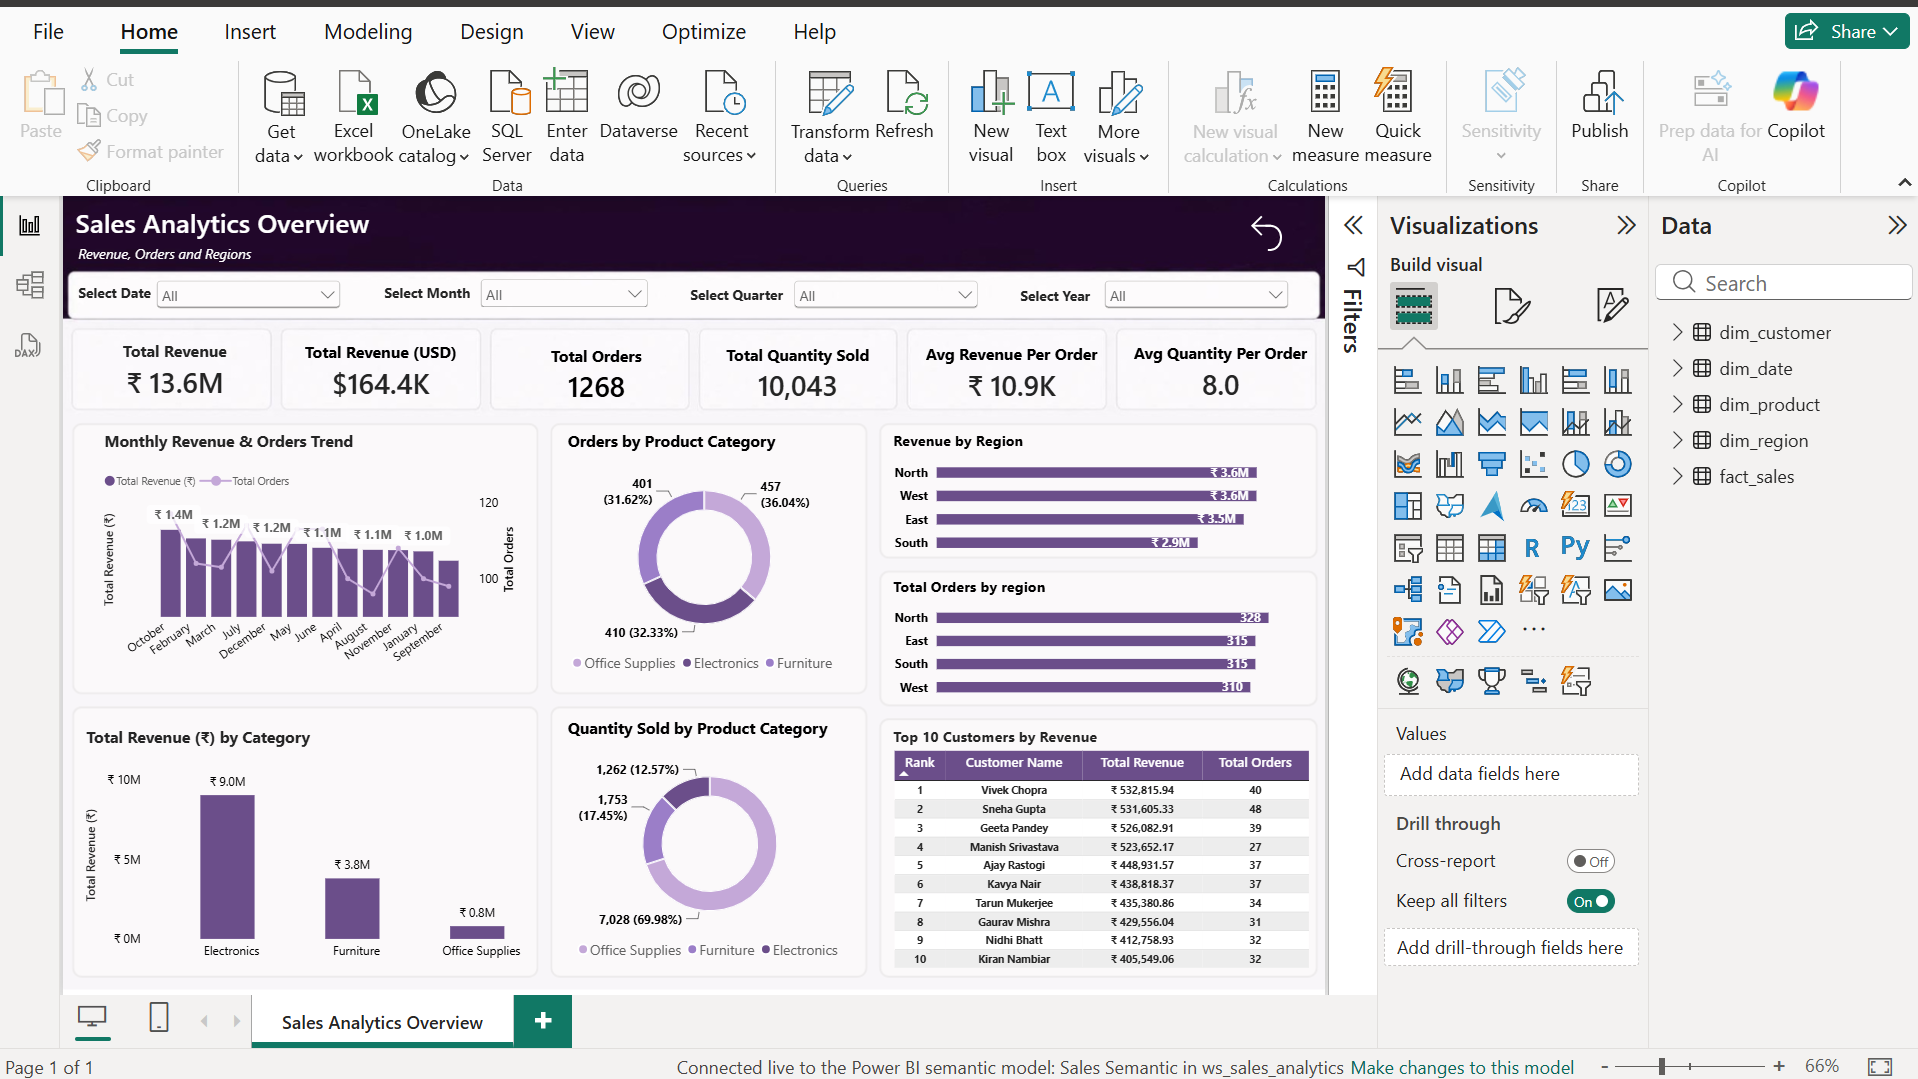

The dashboard page shown, as its layout file describes it:
{"tool":"powerbi","page":{"name":"Sales Analytics Overview","canvas":[1280,810],"ordinal":0},"visuals":[{"type":"textbox","box":[0,9.1,323.3,40],"z":0},{"type":"textbox","box":[309.7,88.5,126.6,48.2],"z":0,"group":"g3"},{"type":"textbox","box":[955,90,126.7,46.7],"z":0,"group":"g1"},{"type":"textbox","box":[0,88.3,126.7,46.7],"z":2,"group":"g4"},{"type":"textbox","box":[620.4,88.8,126.7,46.7],"z":3,"group":"g2"},{"type":"slicer","fields":{"Values":["dim_date.full_date"]},"box":[90,80,196.2,37.5],"z":7,"group":"g4"},{"type":"slicer","fields":{"Values":["dim_date.quater"]},"box":[735.4,80,196.2,37.5],"z":8,"group":"g2"},{"type":"textbox","box":[0,48.5,323.3,18.3],"z":1000},{"type":"slicer","fields":{"Values":["dim_date.month_name"]},"box":[417.1,79.5,179.9,33.5],"z":1000,"group":"g3"},{"type":"slicer","fields":{"Values":["dim_date.year"]},"box":[1051.2,80,196.2,38.8],"z":1000,"group":"g1"},{"type":"group","id":"g1","title":"Group 1","box":[955,80,292.5,56.2],"z":2000},{"type":"group","id":"g2","title":"Group 2","box":[620.4,80,311.2,55.4],"z":3000},{"type":"group","id":"g3","title":"Group 3","box":[309.7,79.5,287.4,58.6],"z":4000},{"type":"group","id":"g4","title":"Group 4","box":[0,80,286.2,55],"z":5000},{"type":"cardVisual","fields":{"Data":["fact_sales.Total Revenue"]},"box":[26.2,135,175,82.5],"z":6000},{"type":"cardVisual","fields":{"Data":["fact_sales.Total Revenue usd"]},"box":[228.8,145,188.8,68.8],"z":7000},{"type":"cardVisual","fields":{"Data":["fact_sales.Total Orders"]},"box":[453.8,135,175,93.8],"z":8000},{"type":"cardVisual","fields":{"Data":["fact_sales.Avg Revenue Per Order"]},"box":[856.2,145,211.2,72.5],"z":9000},{"type":"cardVisual","fields":{"Data":["fact_sales.Avg Quantity Per Order"]},"box":[1067.5,135,212.5,88.8],"z":10000},{"type":"cardVisual","fields":{"Data":["fact_sales.Total Quantity Sold"]},"box":[651.2,140,188.8,83.8],"z":11000},{"type":"clusteredBarChart","title":"Revenue by Region","fields":{"Category":["dim_region.region"],"Y":["fact_sales.Total Revenue"]},"box":[825,223.8,435,160],"z":12000},{"type":"clusteredBarChart","fields":{"Category":["dim_region.region"],"Y":["fact_sales.Total Orders"]},"box":[825,371.2,435,158.8],"z":13000},{"type":"donutChart","title":"Orders by Product Category","fields":{"Category":["dim_product.product_category"],"Y":["fact_sales.Total Orders"]},"box":[496.2,223.8,308.8,280],"z":14000},{"type":"donutChart","title":"Quantity Sold by Product Category","fields":{"Category":["dim_product.product_category"],"Y":["fact_sales.Total Quantity Sold"]},"box":[496.2,513.8,320,280],"z":15000},{"type":"tableEx","title":"Top 10 Customers by Revenue","fields":{"Values":["fact_sales.Customer Rank","dim_customer.customer_name","fact_sales.Total Revenue","fact_sales.Total Orders"]},"box":[825.2,522.4,454.3,278.6],"z":16000},{"type":"columnChart","fields":{"Category":["dim_product.product_category"],"Y":["fact_sales.Total Revenue"]},"box":[7.6,522.4,514.8,271],"z":17000},{"type":"lineStackedColumnComboChart","title":"Monthly Revenue & Orders Trend","fields":{"Category":["dim_date.month_name"],"Y":["fact_sales.Total Revenue"],"Y2":["fact_sales.Total Orders"]},"box":[25.7,224.1,452.7,280.1],"z":18000},{"type":"actionButton","box":[1159.9,9.1,119.6,57.5],"z":19000}]}

Visuals, with their boxes on the page's 1280x810 design canvas (x1, y1, x2, y2). These are canvas units, not pixel positions in the 1918x1079 screenshot, which may show the page scaled, cropped or inside an application window:
textbox: {"left": 0, "top": 9, "right": 323, "bottom": 49}
textbox: {"left": 310, "top": 88, "right": 436, "bottom": 137}
textbox: {"left": 955, "top": 90, "right": 1082, "bottom": 137}
textbox: {"left": 0, "top": 88, "right": 127, "bottom": 135}
textbox: {"left": 620, "top": 89, "right": 747, "bottom": 136}
slicer - dim_date.full_date: {"left": 90, "top": 80, "right": 286, "bottom": 118}
slicer - dim_date.quater: {"left": 735, "top": 80, "right": 932, "bottom": 118}
textbox: {"left": 0, "top": 48, "right": 323, "bottom": 67}
slicer - dim_date.month_name: {"left": 417, "top": 80, "right": 597, "bottom": 113}
slicer - dim_date.year: {"left": 1051, "top": 80, "right": 1247, "bottom": 119}
"Group 1" group: {"left": 955, "top": 80, "right": 1248, "bottom": 136}
"Group 2" group: {"left": 620, "top": 80, "right": 932, "bottom": 135}
"Group 3" group: {"left": 310, "top": 80, "right": 597, "bottom": 138}
"Group 4" group: {"left": 0, "top": 80, "right": 286, "bottom": 135}
cardVisual - fact_sales.Total Revenue: {"left": 26, "top": 135, "right": 201, "bottom": 218}
cardVisual - fact_sales.Total Revenue usd: {"left": 229, "top": 145, "right": 418, "bottom": 214}
cardVisual - fact_sales.Total Orders: {"left": 454, "top": 135, "right": 629, "bottom": 229}
cardVisual - fact_sales.Avg Revenue Per Order: {"left": 856, "top": 145, "right": 1067, "bottom": 218}
cardVisual - fact_sales.Avg Quantity Per Order: {"left": 1068, "top": 135, "right": 1280, "bottom": 224}
cardVisual - fact_sales.Total Quantity Sold: {"left": 651, "top": 140, "right": 840, "bottom": 224}
"Revenue by Region" clusteredBarChart: {"left": 825, "top": 224, "right": 1260, "bottom": 384}
clusteredBarChart - dim_region.region x fact_sales.Total Orders: {"left": 825, "top": 371, "right": 1260, "bottom": 530}
"Orders by Product Category" donutChart: {"left": 496, "top": 224, "right": 805, "bottom": 504}
"Quantity Sold by Product Category" donutChart: {"left": 496, "top": 514, "right": 816, "bottom": 794}
"Top 10 Customers by Revenue" tableEx: {"left": 825, "top": 522, "right": 1280, "bottom": 801}
columnChart - dim_product.product_category x fact_sales.Total Revenue: {"left": 8, "top": 522, "right": 522, "bottom": 793}
"Monthly Revenue & Orders Trend" lineStackedColumnComboChart: {"left": 26, "top": 224, "right": 478, "bottom": 504}
actionButton: {"left": 1160, "top": 9, "right": 1280, "bottom": 67}
